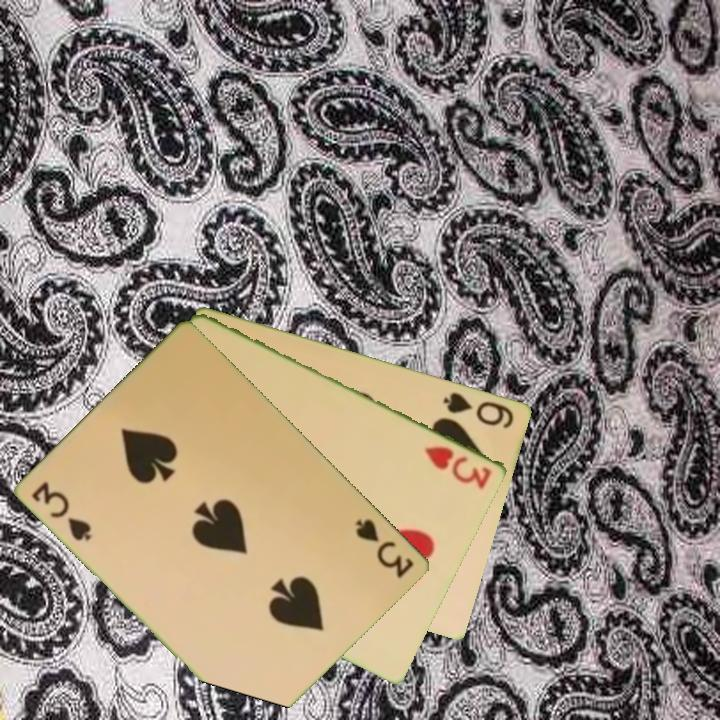3h: (421, 442, 495, 492)
3s: (29, 478, 96, 545), (352, 515, 418, 582)
6s: (440, 388, 517, 431)
